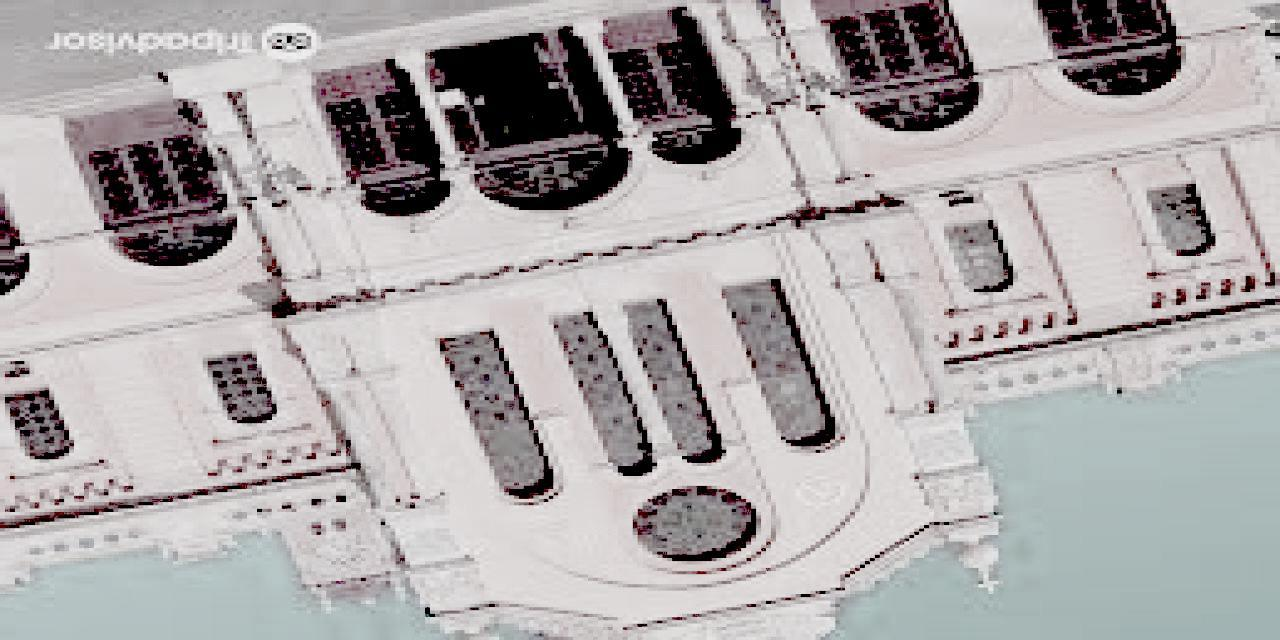Agios Minas: (1, 2, 1279, 637)
